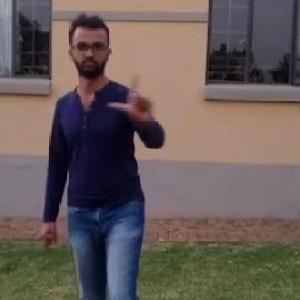land_hand: (108, 68, 163, 133)
